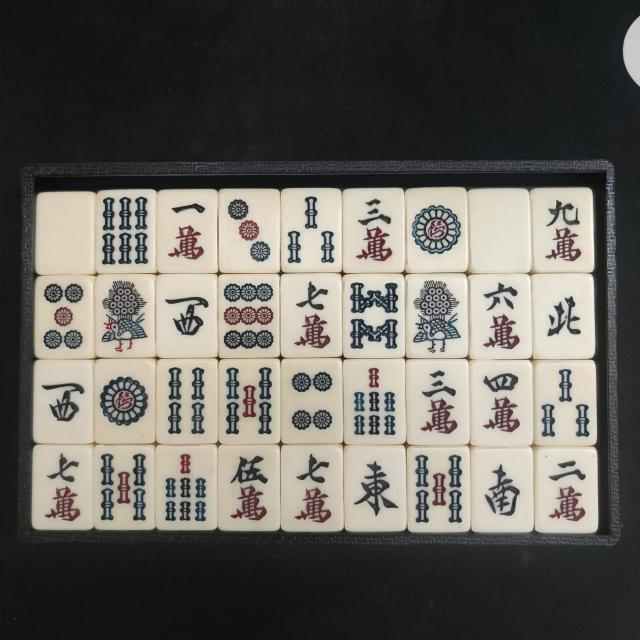hdw: (474, 195, 526, 264), (44, 199, 88, 266)
hwe: (350, 452, 400, 528)
hwn: (539, 278, 587, 352)
hws: (479, 455, 527, 525)
hww: (161, 280, 212, 352), (38, 368, 87, 438)
sb1: (409, 276, 464, 354), (99, 278, 151, 353)
sb3: (539, 366, 593, 441), (286, 192, 336, 267)
sb4: (163, 363, 209, 438)
sb5: (412, 452, 466, 528), (97, 449, 150, 526), (223, 363, 275, 439)
sb6: (100, 193, 151, 268)
sb7: (350, 364, 398, 439), (162, 450, 209, 525)
sb8: (348, 278, 401, 352)
sc1: (162, 195, 212, 268)
sc2: (543, 456, 593, 530)
sc3: (412, 363, 464, 439), (348, 194, 398, 264)
sc4: (476, 362, 528, 439)
sc5: (224, 451, 276, 526)
sc6: (476, 278, 528, 356)
sc7: (287, 449, 339, 527), (284, 279, 338, 354), (39, 449, 90, 526)
sc9: (538, 192, 590, 264)
sd1: (411, 193, 464, 266), (98, 367, 150, 437)
sd3: (223, 193, 276, 266)
sd4: (287, 362, 337, 438)
sd5: (39, 279, 87, 354)
sd9: (222, 280, 276, 354)
